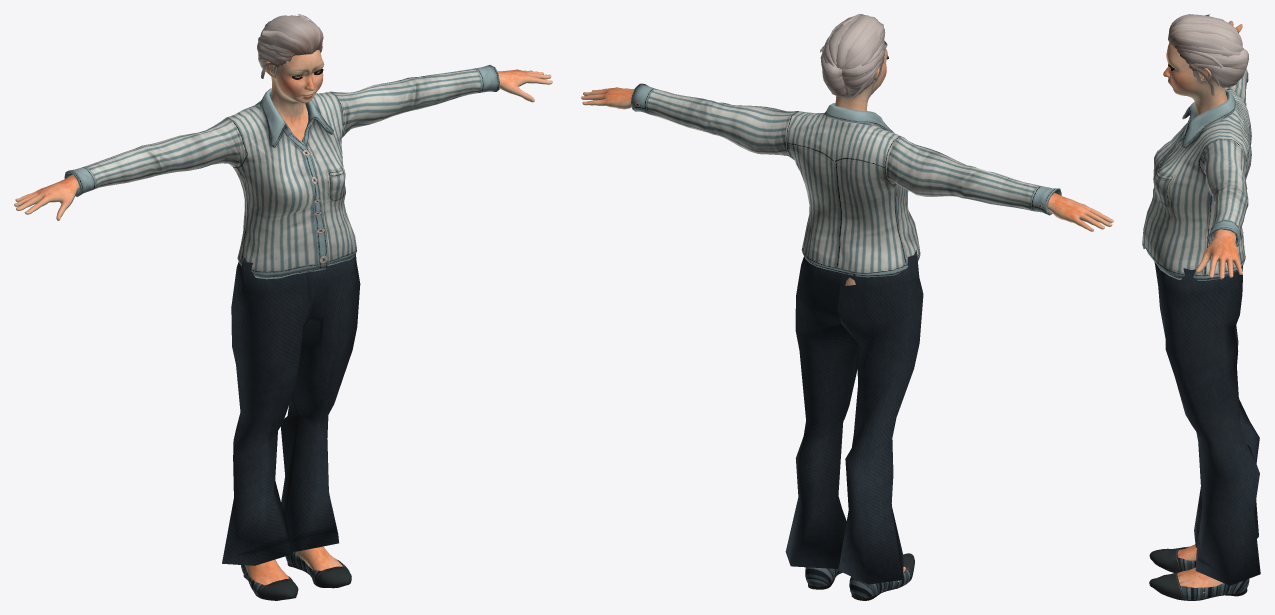
File: RIGGED.fbx
3 views of the same model, side by side, from view 1: azimuth 30°, elevation 25°; view 2: azimuth 150°, elevation 25°; view 3: azimuth 270°, elevation 25° (orthographic).
Visible parts, largest first — view 1: t-pose; view 2: t-pose; view 3: t-pose.
Boxes of the visible parts, x1,y1,x2,y2 form: t-pose: (14, 14, 552, 600); t-pose: (581, 14, 1113, 600); t-pose: (1142, 14, 1260, 600).
Bounding box in the file's own units: 17930 × 18049 × 3443.
